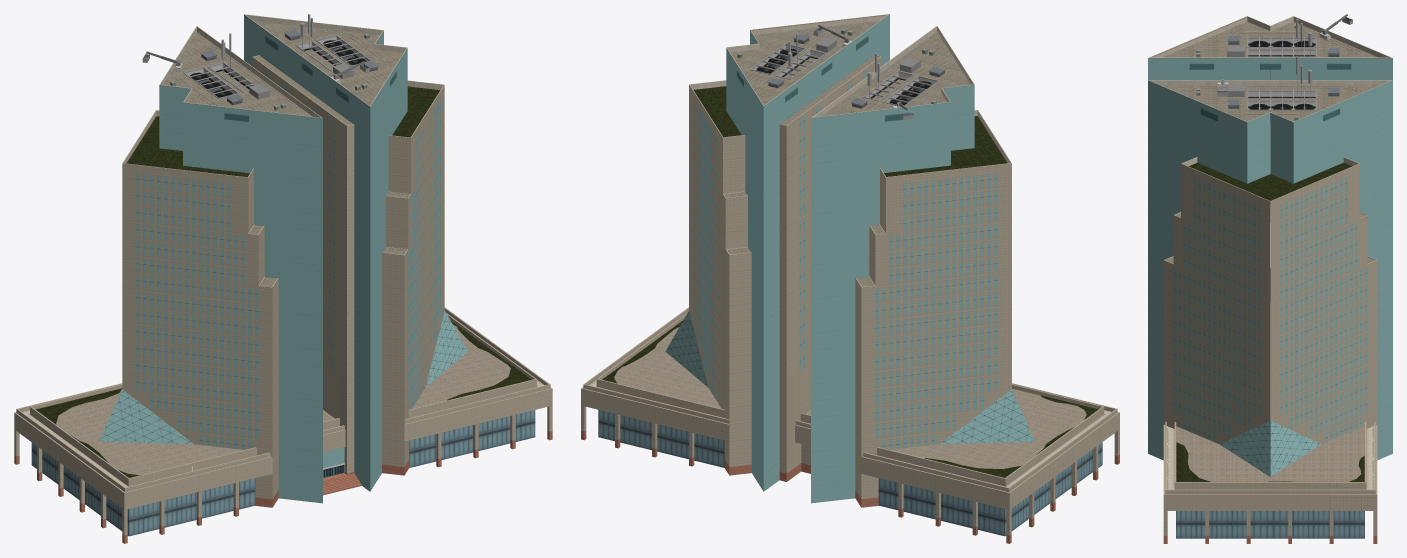
3 views of the same model, side by side, from view 1: azimuth 30°, elevation 25°; view 2: azimuth 150°, elevation 25°; view 3: azimuth 270°, elevation 25° (orthographic). The views are drawn at different scales.
Visible parts, largest first — view 1: NCCItowers_01 - Default_0; view 2: NCCItowers_01 - Default_0; view 3: NCCItowers_01 - Default_0.
Part boxes in pixels (box(x1,y1,x2,y2)): NCCItowers_01 - Default_0: box(14, 14, 552, 543); NCCItowers_01 - Default_0: box(581, 14, 1119, 543); NCCItowers_01 - Default_0: box(1148, 14, 1392, 543).
Size of the model in its own units: 11752 by 10945 by 6000.
1 material, 1 textured.
